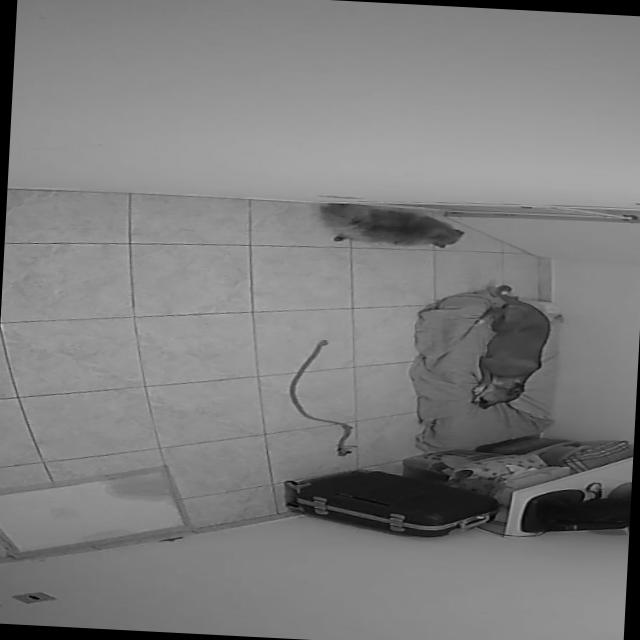laying down: (462, 282, 559, 418), (312, 198, 471, 256)
